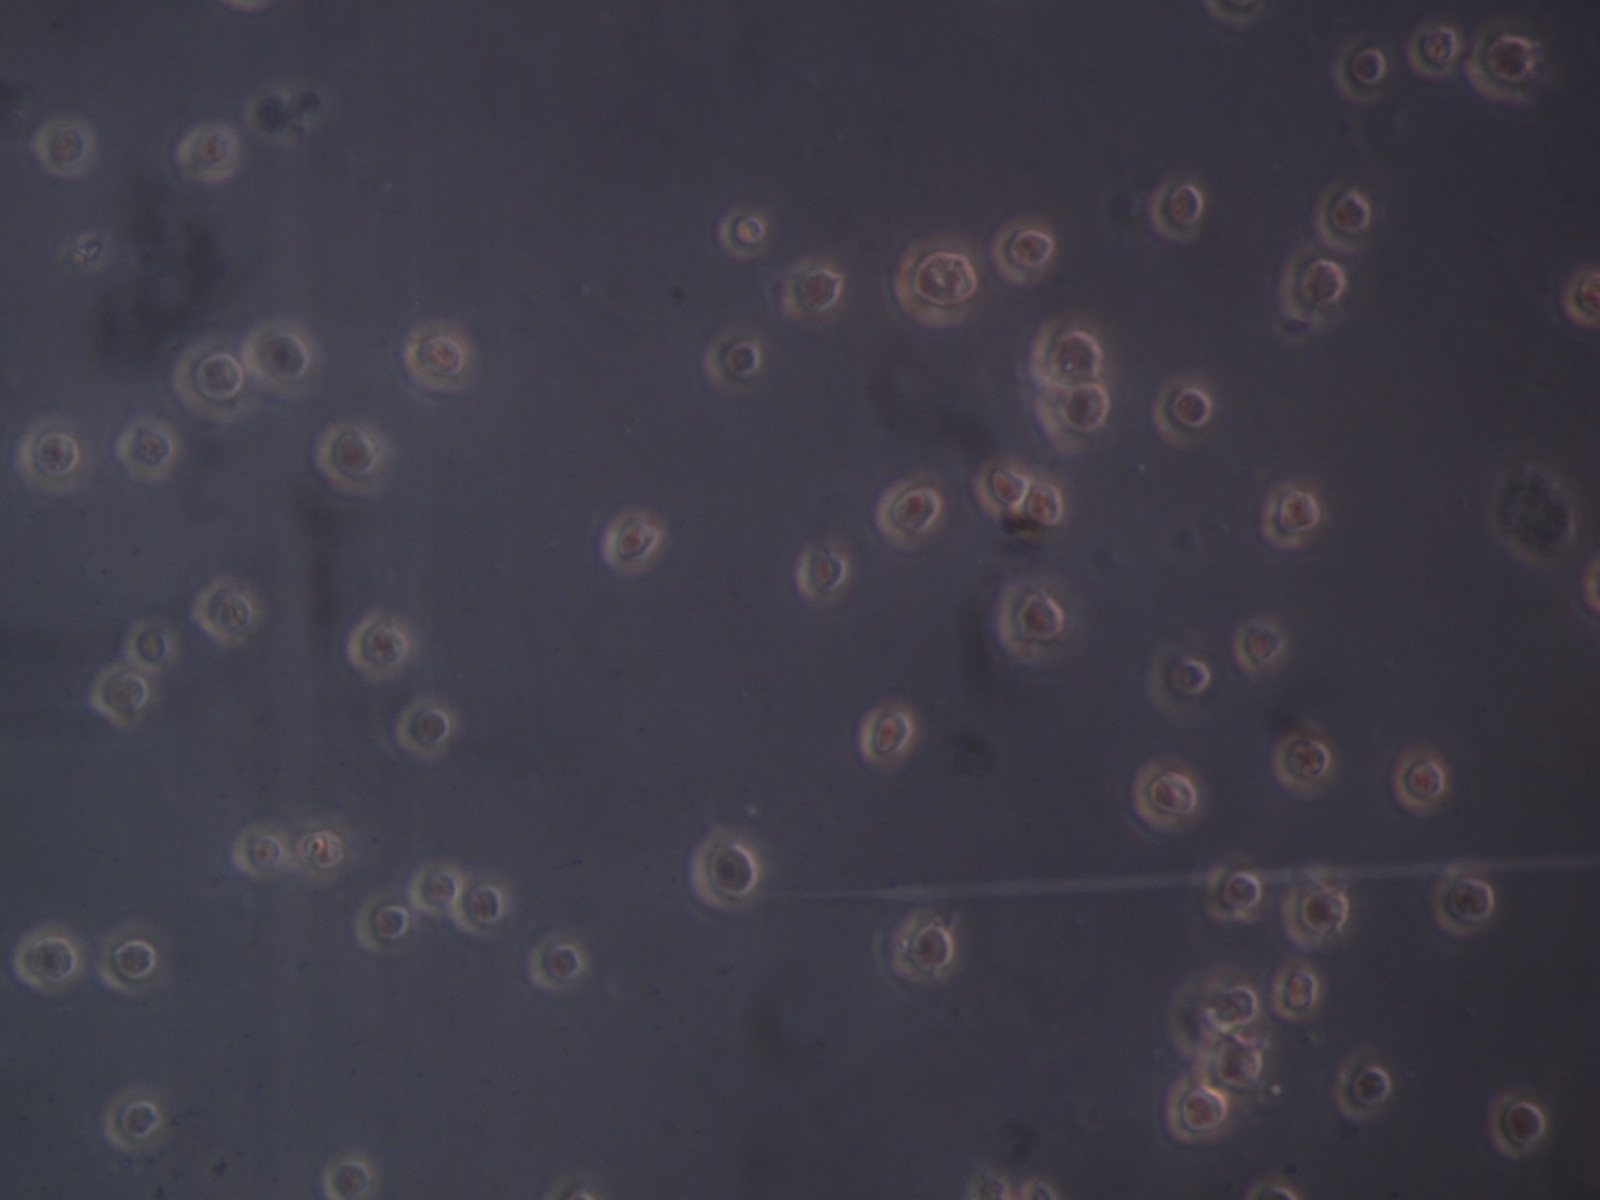hemo: (897, 234, 979, 325), (173, 340, 246, 427), (244, 318, 317, 397), (15, 411, 84, 494), (995, 584, 1065, 662), (312, 417, 382, 494), (1036, 383, 1110, 454), (690, 833, 758, 910), (1280, 247, 1346, 325), (1469, 25, 1533, 103), (16, 919, 81, 997), (1031, 316, 1104, 384), (1281, 881, 1349, 950), (113, 415, 184, 482), (1427, 866, 1493, 938), (403, 320, 469, 392), (891, 909, 955, 982), (84, 661, 151, 729), (1164, 1073, 1230, 1139), (876, 483, 940, 550), (1133, 763, 1199, 827), (346, 609, 409, 676), (191, 575, 252, 644), (1148, 648, 1209, 715), (97, 926, 157, 995), (1153, 377, 1212, 446), (1313, 185, 1371, 256), (1260, 483, 1320, 550), (176, 118, 241, 180), (1332, 32, 1387, 102), (702, 332, 761, 397), (1151, 170, 1203, 245), (994, 224, 1054, 287), (31, 113, 94, 174), (1488, 1095, 1548, 1157), (780, 256, 843, 315), (1202, 863, 1262, 924), (103, 1097, 168, 1151), (353, 891, 409, 952), (860, 705, 916, 766), (1335, 1058, 1390, 1121), (1393, 753, 1445, 818), (528, 932, 585, 991), (974, 456, 1029, 517), (1270, 735, 1330, 790), (231, 823, 286, 884), (397, 696, 452, 755), (603, 516, 660, 572), (454, 879, 503, 942), (408, 860, 462, 916), (1214, 1037, 1266, 1093), (1233, 615, 1284, 671), (295, 828, 345, 884), (796, 546, 848, 597), (1207, 982, 1259, 1031), (1409, 25, 1456, 78), (123, 618, 174, 667), (717, 211, 767, 258), (1272, 966, 1318, 1018), (1562, 263, 1600, 326), (1024, 482, 1070, 533), (324, 1155, 375, 1200)
